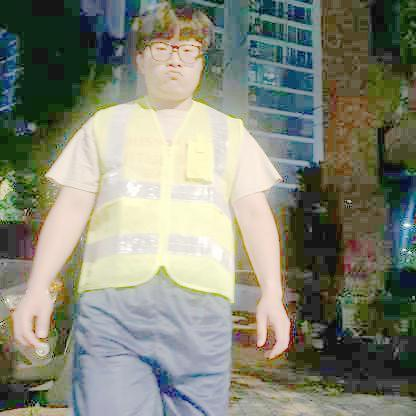no-helmet: (130, 0, 215, 79)
vest: (76, 96, 246, 304)
